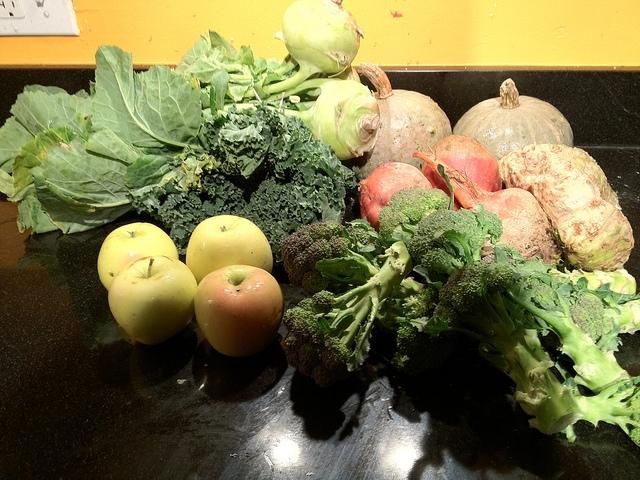apple: (108, 254, 199, 346), (194, 264, 284, 357), (186, 215, 273, 286), (98, 222, 180, 293)
broccoli: (433, 262, 515, 336), (280, 219, 352, 294), (378, 188, 451, 248), (414, 208, 485, 266), (319, 300, 373, 374), (570, 292, 614, 343), (518, 276, 564, 314), (397, 322, 422, 356), (501, 290, 511, 316)
lettuce: (10, 84, 97, 142), (212, 59, 244, 75)
